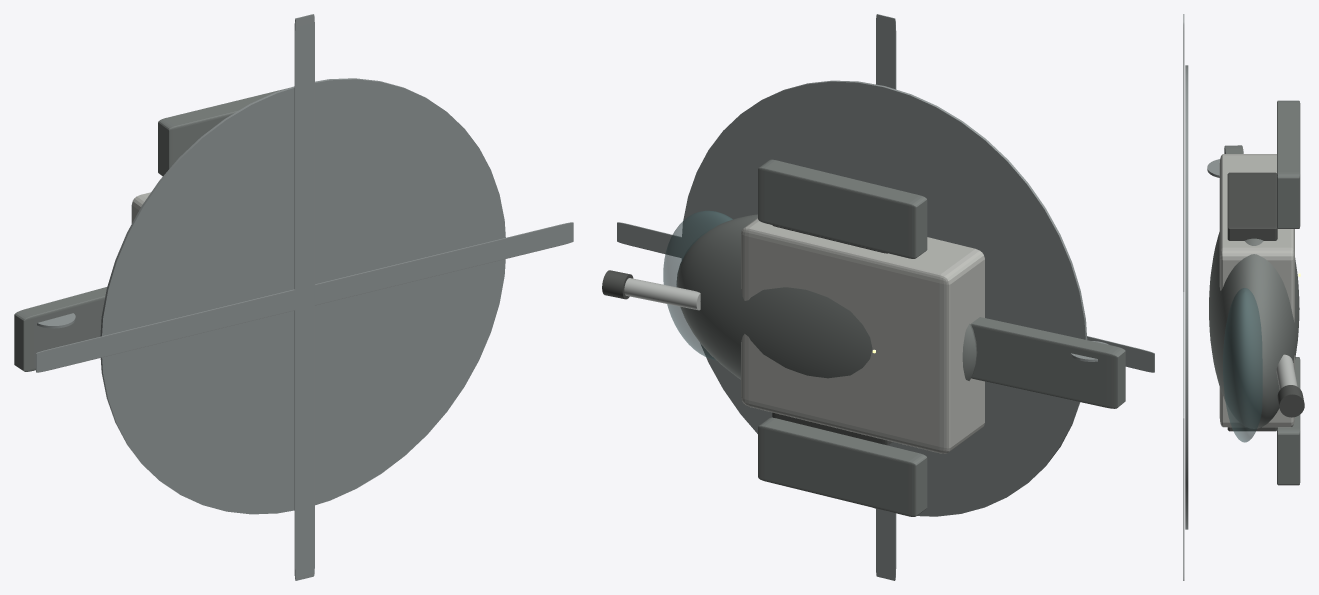
Rendered from c-u21-transport-helicopter-lod1.glb.
3 renders of one model, left to right at view 1: azimuth 30°, elevation 25°; view 2: azimuth 150°, elevation 25°; view 3: azimuth 270°, elevation 25°, orthographic.
Parts seen in each view (by area): view 1: rotor_main, rotor_blade_0, rotor_blade_3, rotor_blade_1, rotor_blade_2, tail_boom, landing_sponson_1; view 2: rotor_main, transport_cabin, helicopter_fuselage, landing_sponson_1, landing_sponson_-1, tail_boom, cockpit, rotor_blade_1, chin_gun_barrel_0, rotor_blade_3, rotor_blade_0, rotor_blade_2; view 3: helicopter_fuselage, cockpit, transport_cabin, cargo_door_1, landing_sponson_1, rotor_main, landing_sponson_-1, chin_gun_muzzle_0, rotor_blade_1, chin_gun_barrel_0, rotor_blade_3, rotor_blade_0 (+2 smaller).
Part boxes in pixels (left/top/right/bottom): rotor_main: left=100, top=78, right=505, bottom=514; rotor_blade_0: left=279, top=222, right=573, bottom=313; rotor_blade_3: left=294, top=268, right=314, bottom=580; rotor_blade_1: left=294, top=14, right=314, bottom=326; rotor_blade_2: left=36, top=281, right=325, bottom=372; tail_boom: left=14, top=287, right=106, bottom=371; landing_sponson_1: left=158, top=88, right=288, bottom=176; rotor_main: left=681, top=80, right=1087, bottom=516; transport_cabin: left=741, top=218, right=984, bottom=453; helicopter_fuselage: left=676, top=214, right=977, bottom=380; landing_sponson_1: left=758, top=159, right=927, bottom=258; landing_sponson_-1: left=758, top=417, right=927, bottom=516; tail_boom: left=971, top=317, right=1125, bottom=408; cockpit: left=663, top=210, right=732, bottom=360; rotor_blade_1: left=876, top=14, right=896, bottom=89; chin_gun_barrel_0: left=624, top=278, right=700, bottom=310; rotor_blade_3: left=876, top=509, right=896, bottom=580; rotor_blade_0: left=617, top=222, right=681, bottom=257; rotor_blade_2: left=1087, top=336, right=1154, bottom=372; helicopter_fuselage: left=1209, top=232, right=1299, bottom=428; cockpit: left=1223, top=288, right=1262, bottom=442; transport_cabin: left=1219, top=154, right=1294, bottom=427; cargo_door_1: left=1227, top=172, right=1277, bottom=240; landing_sponson_1: left=1277, top=100, right=1300, bottom=228; rotor_main: left=1185, top=65, right=1188, bottom=529; landing_sponson_-1: left=1277, top=357, right=1300, bottom=485; chin_gun_muzzle_0: left=1277, top=385, right=1304, bottom=417; rotor_blade_1: left=1183, top=14, right=1184, bottom=291; chin_gun_barrel_0: left=1276, top=354, right=1297, bottom=389; rotor_blade_3: left=1183, top=437, right=1184, bottom=580; rotor_blade_0: left=1183, top=292, right=1184, bottom=436.
Size of what is drawn, in the model's own units: 18.91 by 18.91 by 3.73.
